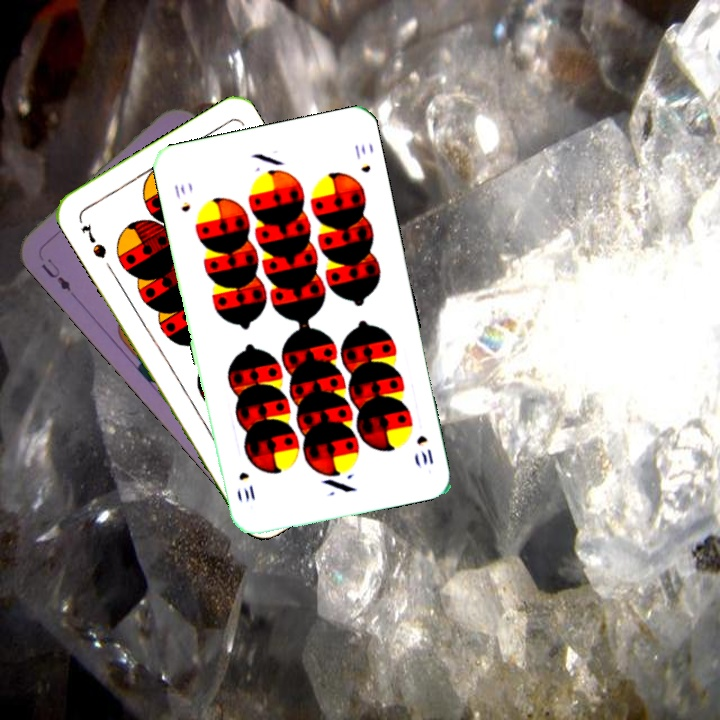EU: (37, 254, 74, 294)
S10: (412, 431, 436, 468), (170, 180, 193, 215)
S7: (77, 220, 109, 261)
